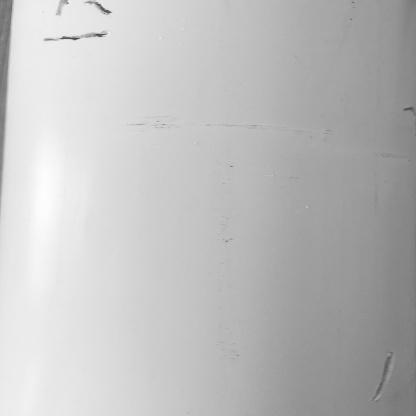sunshang: (36, 1, 124, 20), (373, 348, 400, 405), (33, 31, 115, 44)
